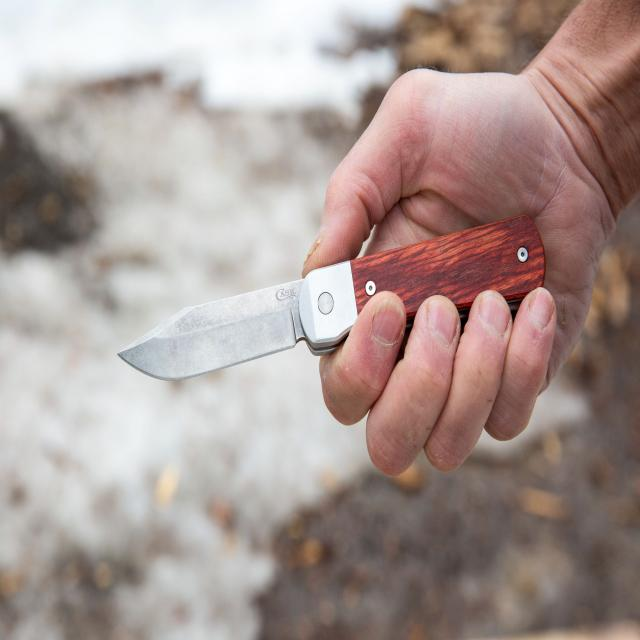Knife: (102, 203, 556, 403)
